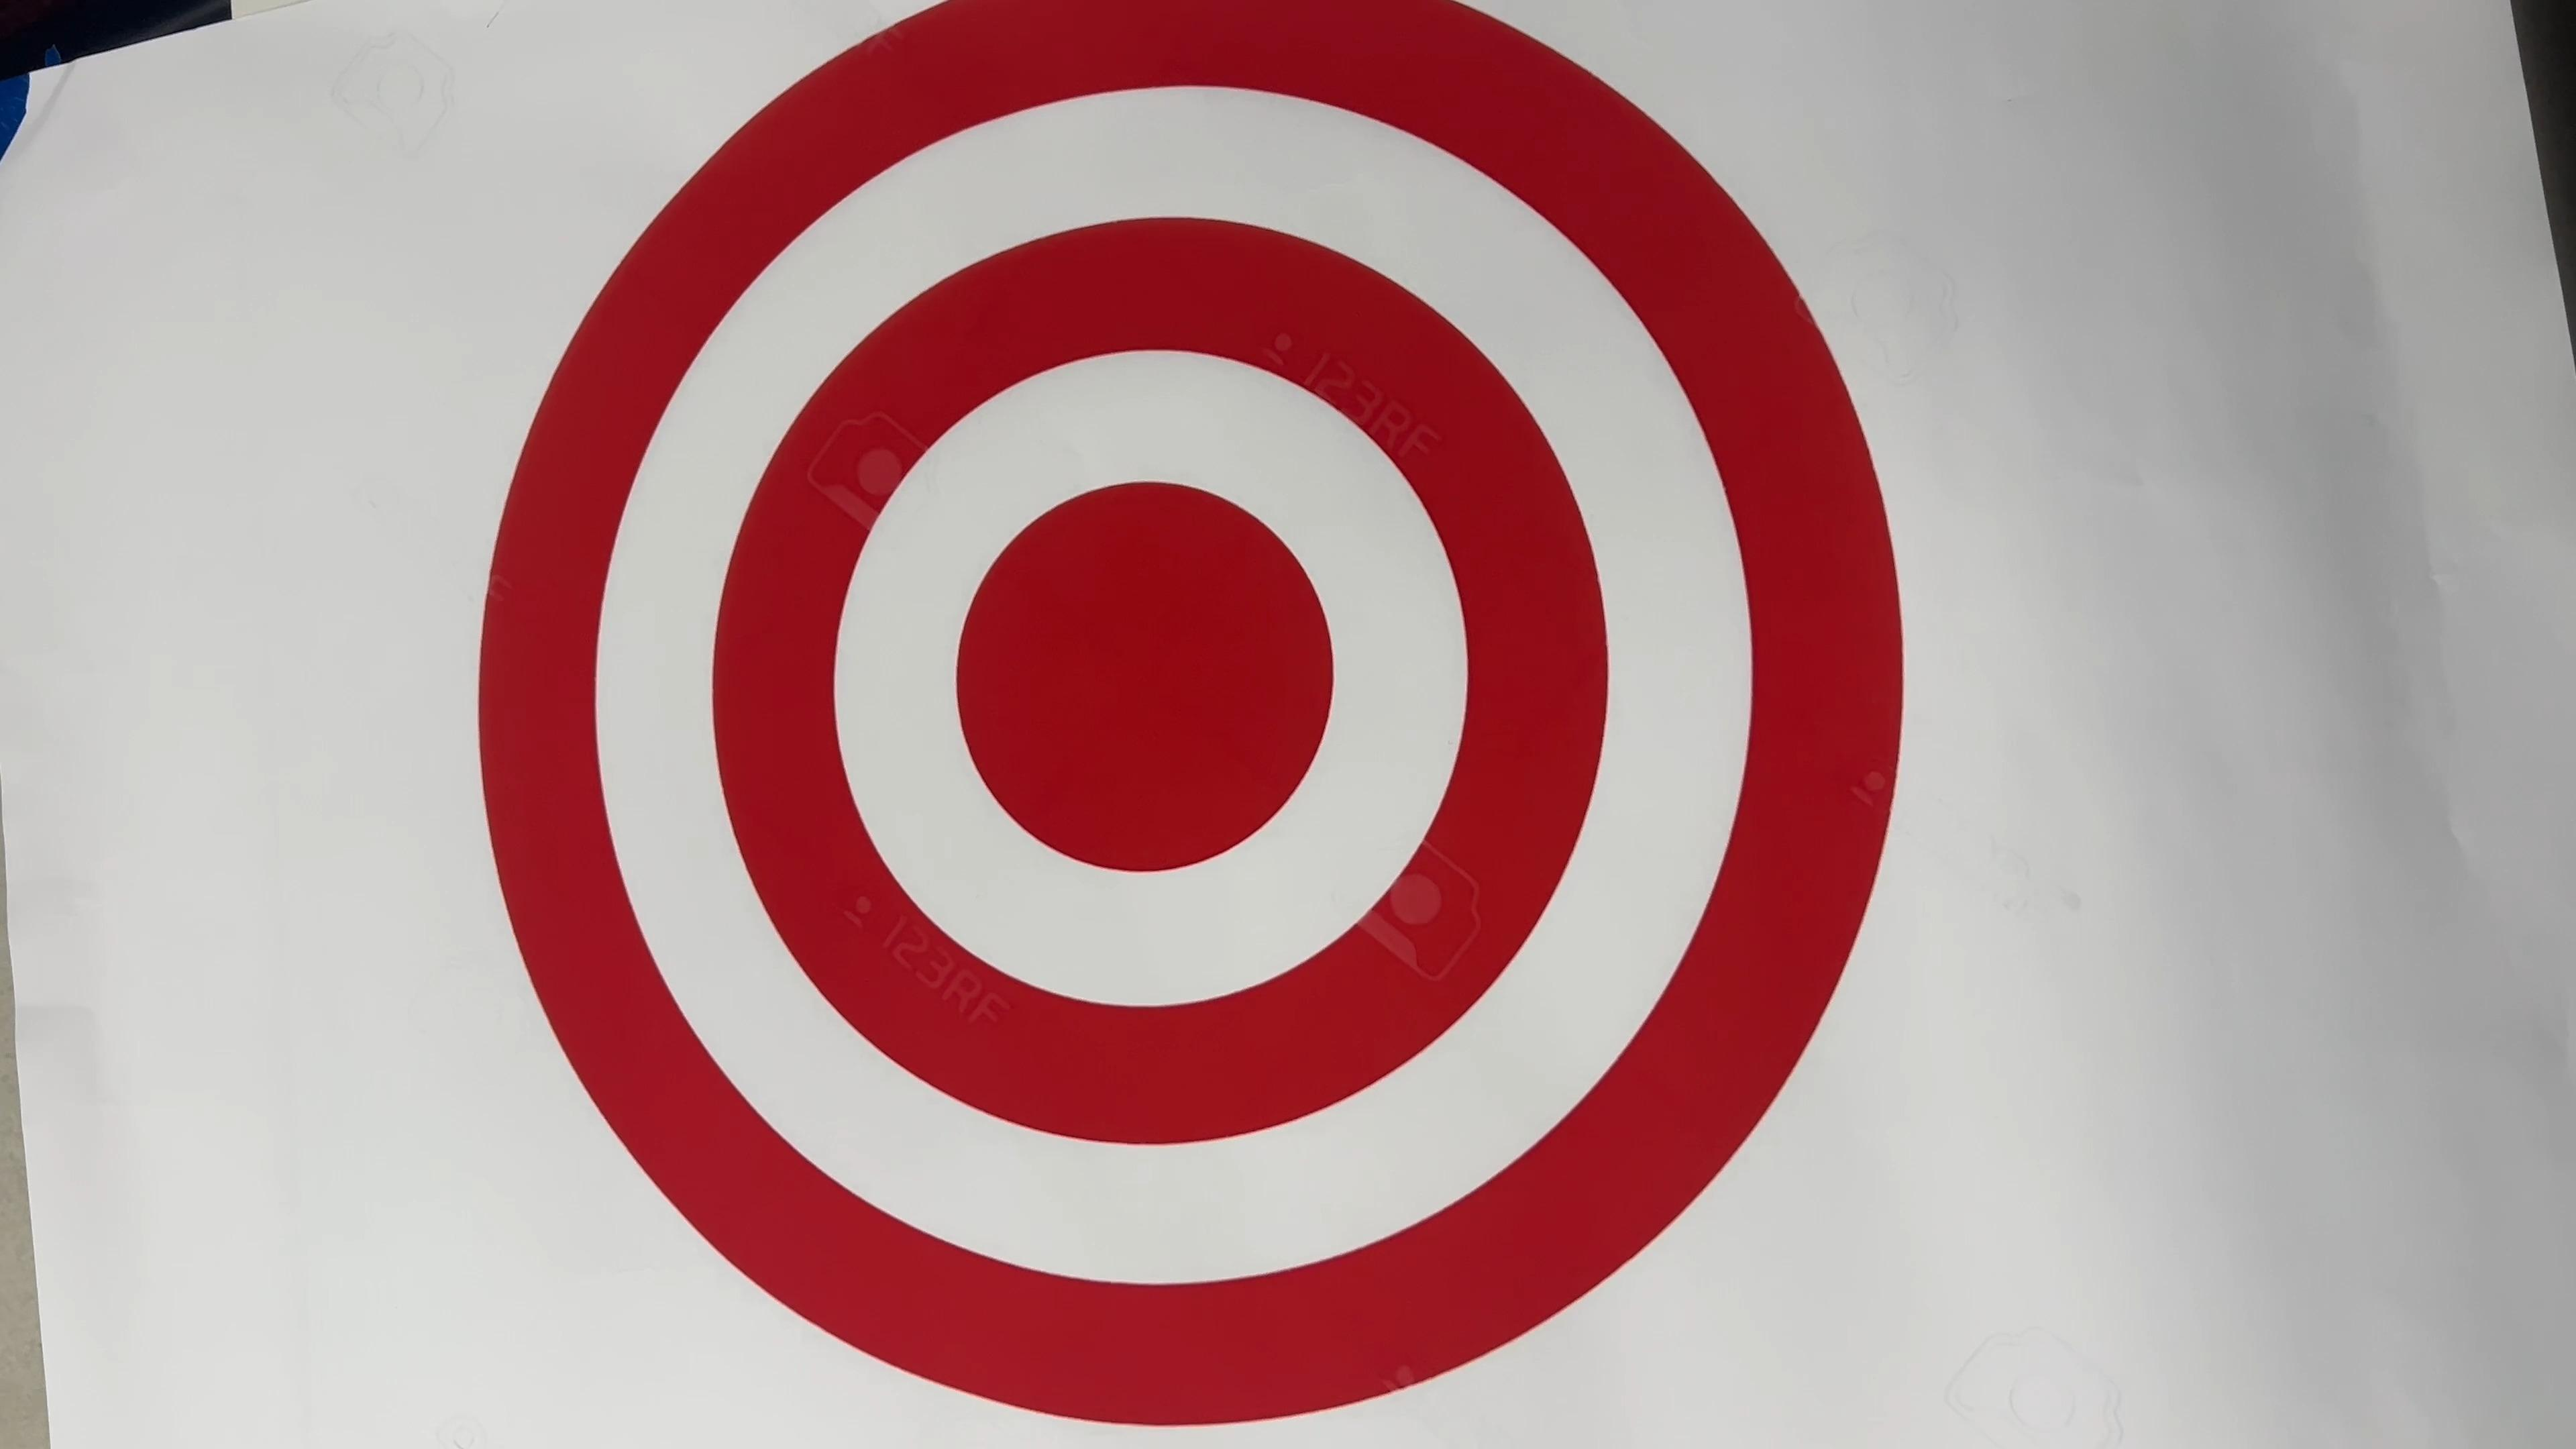target_red: (456, 0, 1939, 1449)
